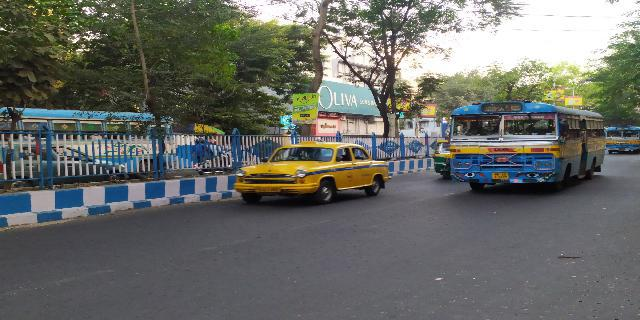Autorickshaw: (425, 139, 447, 177)
Bus: (447, 104, 610, 189)
Car: (228, 138, 390, 204)
